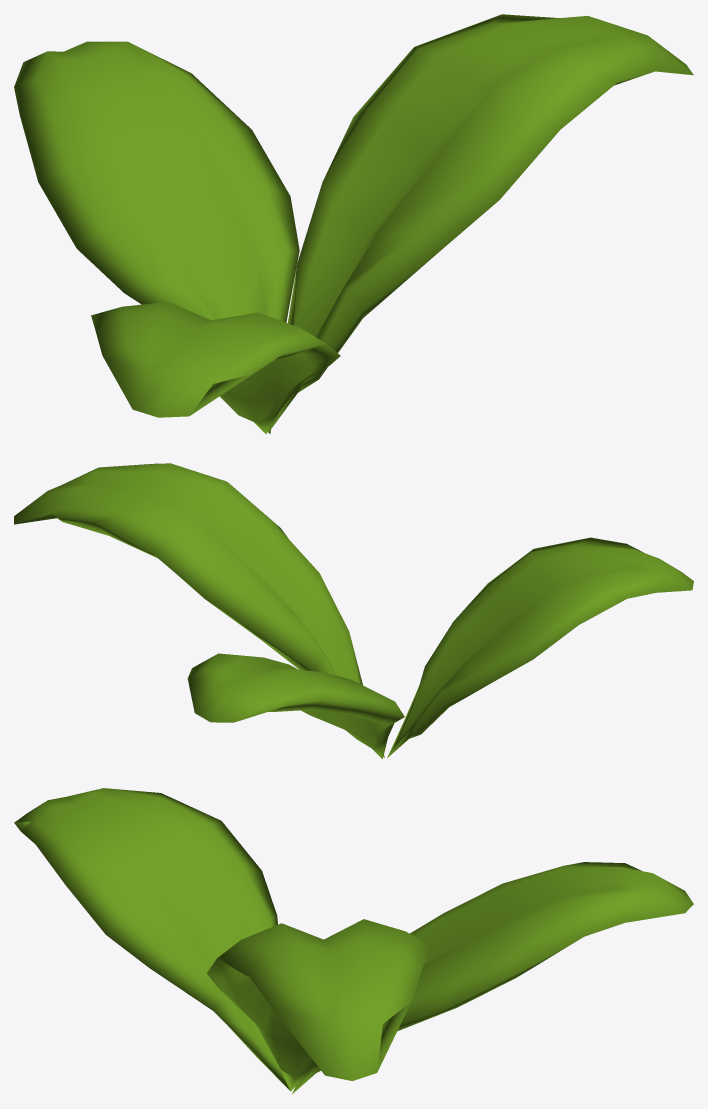
Rendered from leaf_A.fbx.
3 renders of one model, top to bottom at view 1: azimuth 30°, elevation 25°; view 2: azimuth 150°, elevation 25°; view 3: azimuth 270°, elevation 25°, orthographic. The views are drawn at different scales.
Parts seen in each view (by area): view 1: leaf_A_full; view 2: leaf_A_full; view 3: leaf_A_full.
Part boxes in pixels (x1=…): leaf_A_full: x1=14, y1=14, x2=693, y2=434; leaf_A_full: x1=14, y1=463, x2=693, y2=758; leaf_A_full: x1=14, y1=788, x2=693, y2=1093.
Size of the model in its own units: 0.3185 by 0.1309 by 0.2917.
